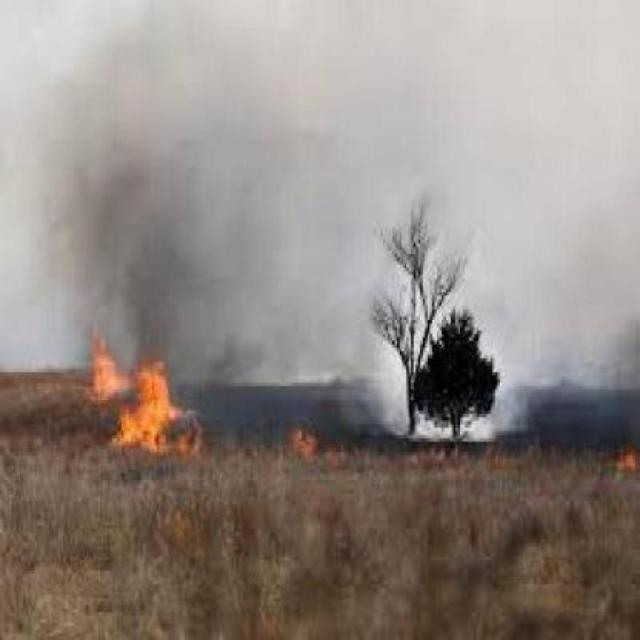Fire: (82, 304, 210, 472)
